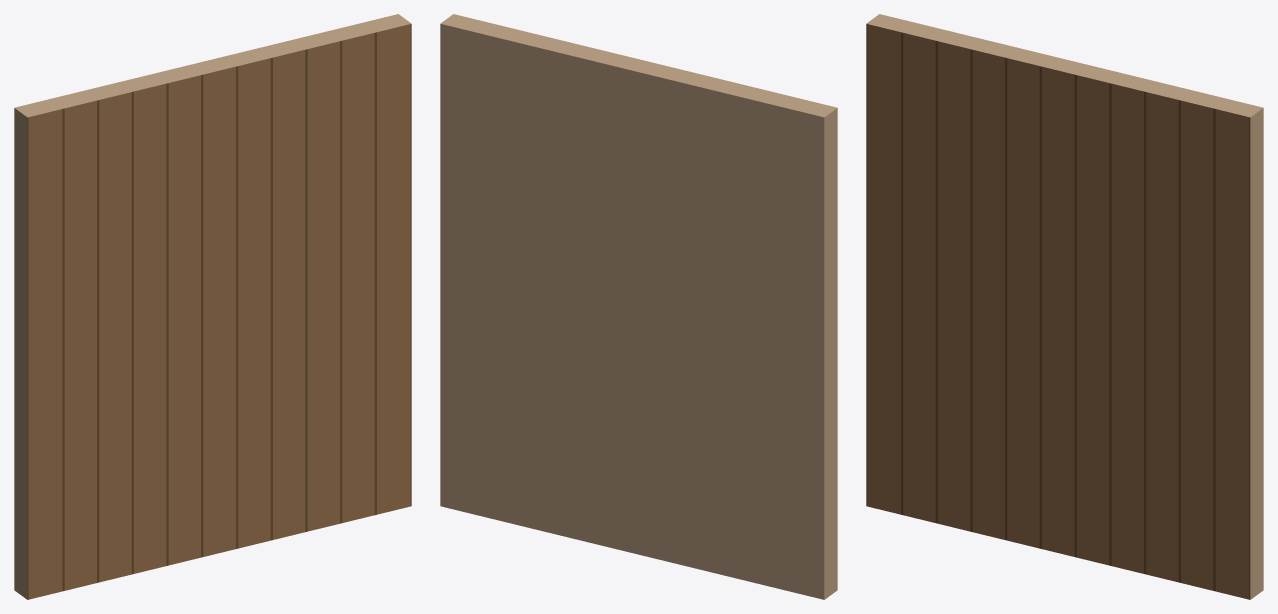
Rendered from Wall2_C9_01.fbx.
3 views of the same model, side by side, from view 1: azimuth 30°, elevation 25°; view 2: azimuth 150°, elevation 25°; view 3: azimuth 330°, elevation 25° (orthographic).
Parts seen in each view (by area): view 1: Wall2_C9_01; view 2: Wall2_C9_01; view 3: Wall2_C9_01.
Part boxes in pixels (<box>): Wall2_C9_01: <box>14,14,411,599</box>; Wall2_C9_01: <box>440,14,837,599</box>; Wall2_C9_01: <box>866,14,1263,599</box>.
Size of the model in its own units: 250 by 300 by 15.
